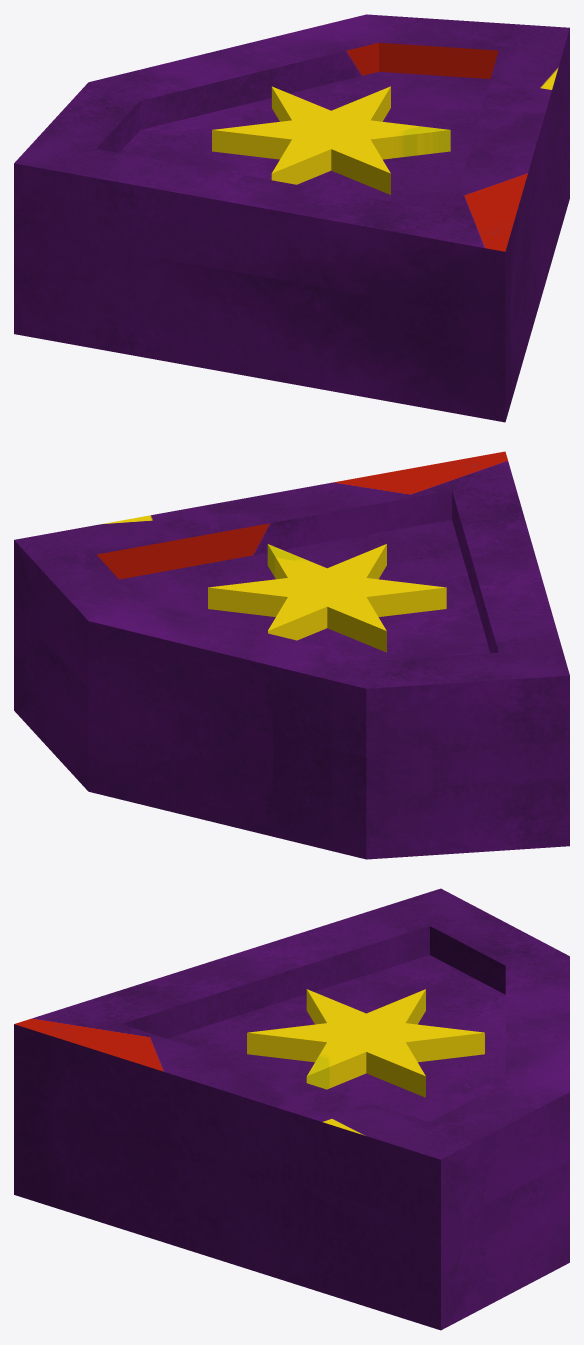
The model's file is KillAll.FBX.
The picture shows the model from 3 angles, top to bottom: view 1: azimuth 30°, elevation 25°; view 2: azimuth 150°, elevation 25°; view 3: azimuth 270°, elevation 25°; orthographic projection.
Visible parts, largest first — view 1: Cylinder012; view 2: Cylinder012; view 3: Cylinder012.
Part boxes in pixels (bbox=[...]): Cylinder012: bbox=[14, 14, 569, 422]; Cylinder012: bbox=[14, 451, 569, 859]; Cylinder012: bbox=[14, 888, 569, 1330].
Size of the model in its own units: 20 by 17.32 by 5.87.
